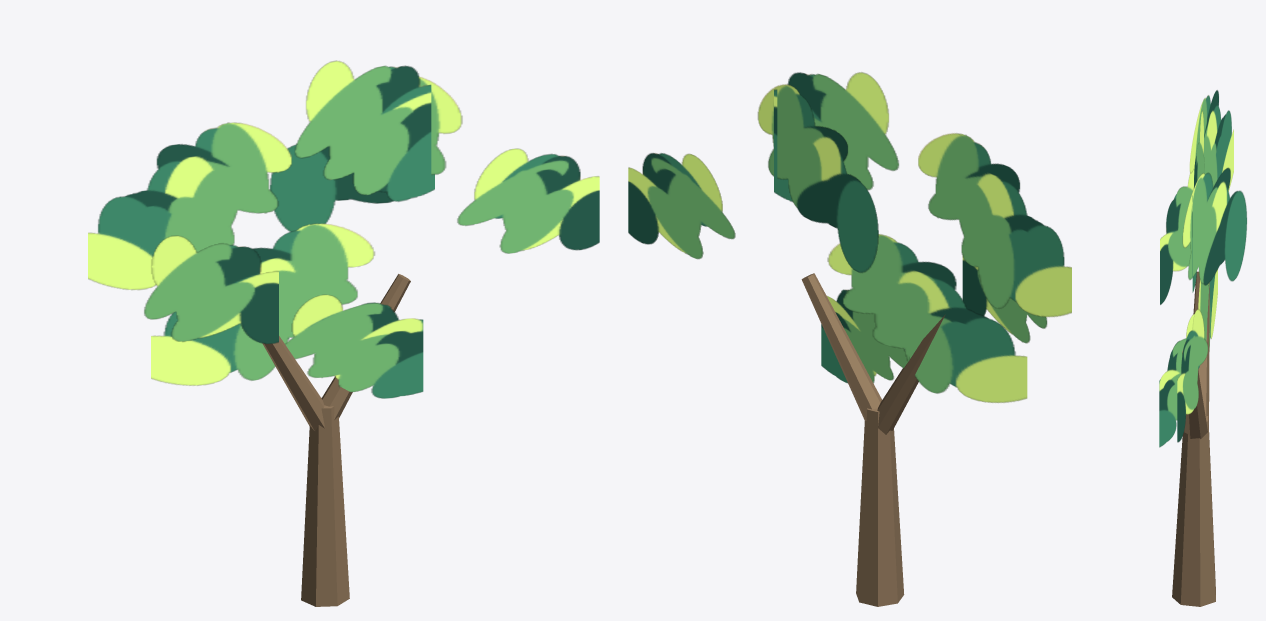
The model's file is TREE_NATIVE_ROUNDED_001_LOD_MAP.glb.
The picture shows the model from 3 angles, left to right: view 1: azimuth 30°, elevation 25°; view 2: azimuth 150°, elevation 25°; view 3: azimuth 270°, elevation 25°; orthographic projection. The views are drawn at different scales.
Parts seen in each view (by area): view 1: GG_TREE_NATIVE_ROUNDED_001_REAR_01_00, GG_TREE_NATIVE_ROUNDED_001_REAR_02_00, GG_TREE_NATIVE_ROUNDED_001_REAR_05_00, GG_TREE_NATIVE_ROUNDED_001_REAR_00_00, GG_TREE_NATIVE_ROUNDED_001_REAR_06_00, GG_TREE_NATIVE_ROUNDED_001_REAR_04_00, GG_TREE_NATIVE_ROUNDED_001_BRANCH_00, GG_TREE_NATIVE_ROUNDED_001_REAR_03_00, GG_TREE_NATIVE_ROUNDED_001_BRANCH_01, GG_TREE_NATIVE_ROUNDED_001_BRANCH_02; view 2: GG_TREE_NATIVE_ROUNDED_001_REAR_05_00, GG_TREE_NATIVE_ROUNDED_001_REAR_01_00, GG_TREE_NATIVE_ROUNDED_001_REAR_03_00, GG_TREE_NATIVE_ROUNDED_001_REAR_04_00, GG_TREE_NATIVE_ROUNDED_001_BRANCH_00, GG_TREE_NATIVE_ROUNDED_001_REAR_02_00, GG_TREE_NATIVE_ROUNDED_001_REAR_06_00, GG_TREE_NATIVE_ROUNDED_001_BRANCH_02, GG_TREE_NATIVE_ROUNDED_001_REAR_00_00, GG_TREE_NATIVE_ROUNDED_001_BRANCH_01; view 3: GG_TREE_NATIVE_ROUNDED_001_BRANCH_00, GG_TREE_NATIVE_ROUNDED_001_REAR_03_00, GG_TREE_NATIVE_ROUNDED_001_REAR_01_00, GG_TREE_NATIVE_ROUNDED_001_REAR_00_00, GG_TREE_NATIVE_ROUNDED_001_REAR_04_00, GG_TREE_NATIVE_ROUNDED_001_REAR_06_00, GG_TREE_NATIVE_ROUNDED_001_REAR_05_00, GG_TREE_NATIVE_ROUNDED_001_BRANCH_01, GG_TREE_NATIVE_ROUNDED_001_BRANCH_02, GG_TREE_NATIVE_ROUNDED_001_REAR_02_00.
Boxes of the visible parts, <box> form: GG_TREE_NATIVE_ROUNDED_001_REAR_01_00: <box>88,122,291,289</box>; GG_TREE_NATIVE_ROUNDED_001_REAR_02_00: <box>294,60,434,201</box>; GG_TREE_NATIVE_ROUNDED_001_REAR_05_00: <box>151,223,374,385</box>; GG_TREE_NATIVE_ROUNDED_001_REAR_00_00: <box>144,235,278,343</box>; GG_TREE_NATIVE_ROUNDED_001_REAR_06_00: <box>285,294,423,398</box>; GG_TREE_NATIVE_ROUNDED_001_REAR_04_00: <box>457,148,599,253</box>; GG_TREE_NATIVE_ROUNDED_001_BRANCH_00: <box>301,397,349,606</box>; GG_TREE_NATIVE_ROUNDED_001_REAR_03_00: <box>269,76,462,231</box>; GG_TREE_NATIVE_ROUNDED_001_BRANCH_01: <box>262,336,324,431</box>; GG_TREE_NATIVE_ROUNDED_001_BRANCH_02: <box>321,274,410,419</box>; GG_TREE_NATIVE_ROUNDED_001_REAR_05_00: <box>827,234,1027,402</box>; GG_TREE_NATIVE_ROUNDED_001_REAR_01_00: <box>918,133,1071,317</box>; GG_TREE_NATIVE_ROUNDED_001_REAR_03_00: <box>757,84,878,272</box>; GG_TREE_NATIVE_ROUNDED_001_REAR_04_00: <box>628,153,735,259</box>; GG_TREE_NATIVE_ROUNDED_001_BRANCH_00: <box>856,408,904,606</box>; GG_TREE_NATIVE_ROUNDED_001_REAR_02_00: <box>774,72,898,201</box>; GG_TREE_NATIVE_ROUNDED_001_REAR_06_00: <box>821,289,909,383</box>; GG_TREE_NATIVE_ROUNDED_001_BRANCH_02: <box>801,273,881,420</box>; GG_TREE_NATIVE_ROUNDED_001_REAR_00_00: <box>962,256,1047,343</box>; GG_TREE_NATIVE_ROUNDED_001_BRANCH_01: <box>877,314,945,434</box>; GG_TREE_NATIVE_ROUNDED_001_BRANCH_00: <box>1172,416,1215,606</box>; GG_TREE_NATIVE_ROUNDED_001_REAR_03_00: <box>1182,167,1246,285</box>; GG_TREE_NATIVE_ROUNDED_001_REAR_01_00: <box>1189,90,1233,191</box>; GG_TREE_NATIVE_ROUNDED_001_REAR_00_00: <box>1160,167,1194,304</box>; GG_TREE_NATIVE_ROUNDED_001_REAR_04_00: <box>1177,309,1207,442</box>; GG_TREE_NATIVE_ROUNDED_001_REAR_06_00: <box>1159,313,1194,447</box>; GG_TREE_NATIVE_ROUNDED_001_REAR_05_00: <box>1198,269,1217,351</box>; GG_TREE_NATIVE_ROUNDED_001_BRANCH_01: <box>1193,271,1209,424</box>; GG_TREE_NATIVE_ROUNDED_001_BRANCH_02: <box>1182,350,1207,438</box>; GG_TREE_NATIVE_ROUNDED_001_REAR_02_00: <box>1192,111,1204,292</box>.
Bounding box in the file's own units: 7.54 × 7.35 × 1.22.
Materials: 2 (1 with a texture image).
